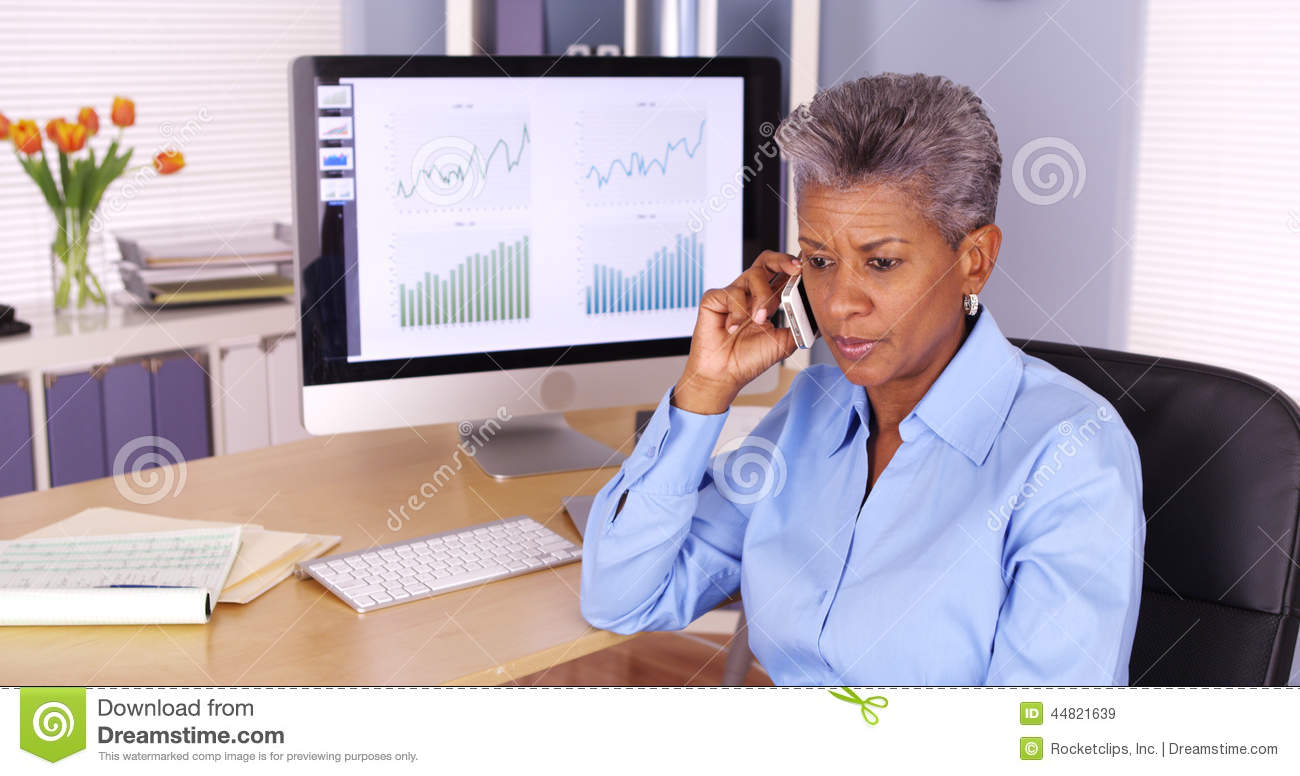phone: (780, 245, 825, 353)
talk: (689, 232, 929, 393)
